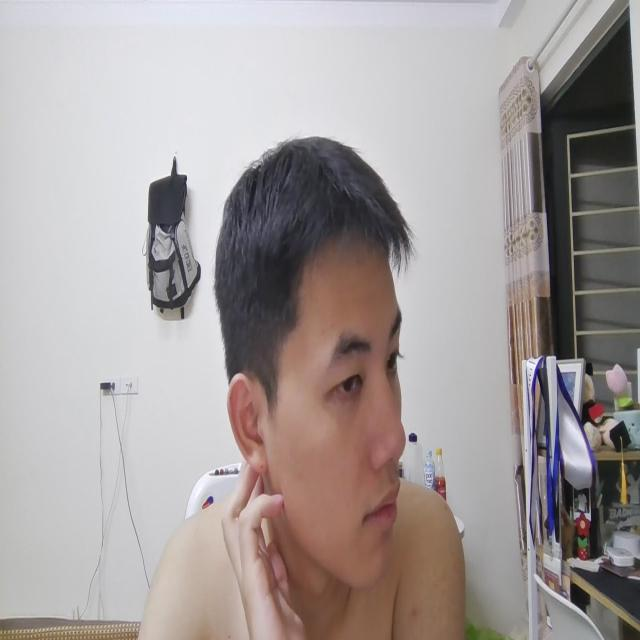student: (174, 144, 438, 640)
